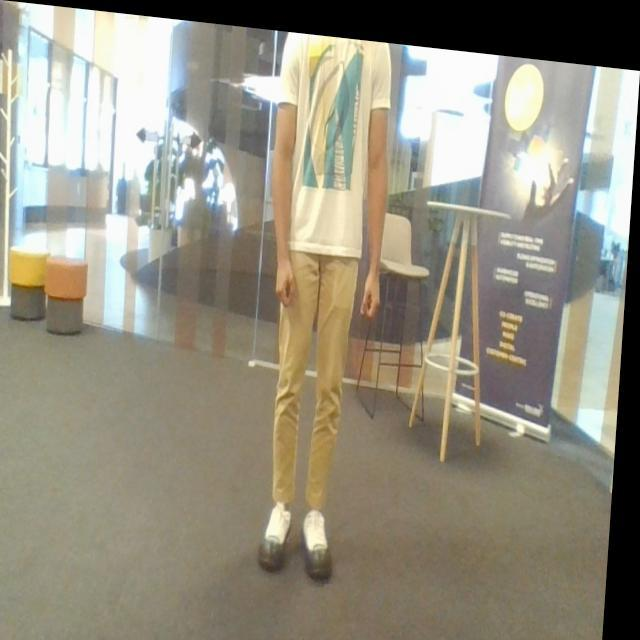shoes: (258, 498, 300, 578), (299, 505, 339, 587)
